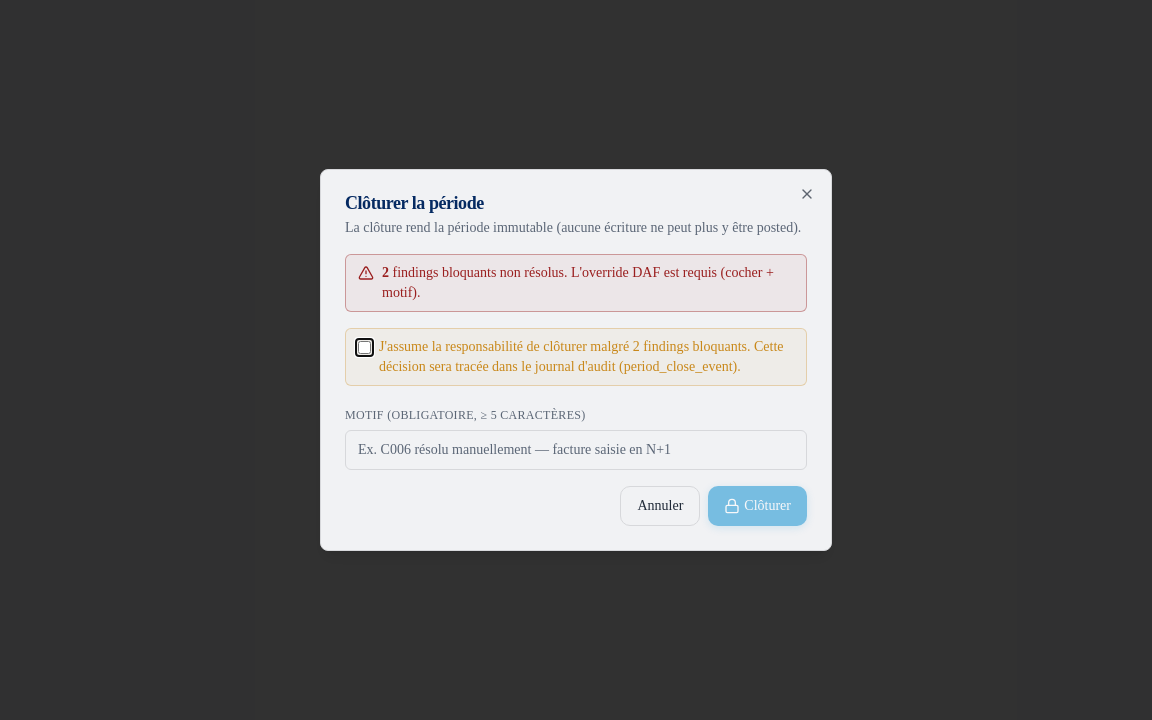
ClosePeriodDialog › avec findings bloquants + canOverride : checkbox + reason ≥ 5 requis
Expected: the element with test id "close-blocking-banner" is shown, x1=345 y1=254 x2=807 y2=312
Expected: the button with test id "close-confirm" is disabled, x1=708 y1=486 x2=807 y2=526
Note: Coche + ajout d'un motif court → toujours désactivé
Click the checkbox with test id "acknowledge-checkbox" at (364, 348), box x1=358 y1=341 x2=371 y2=354
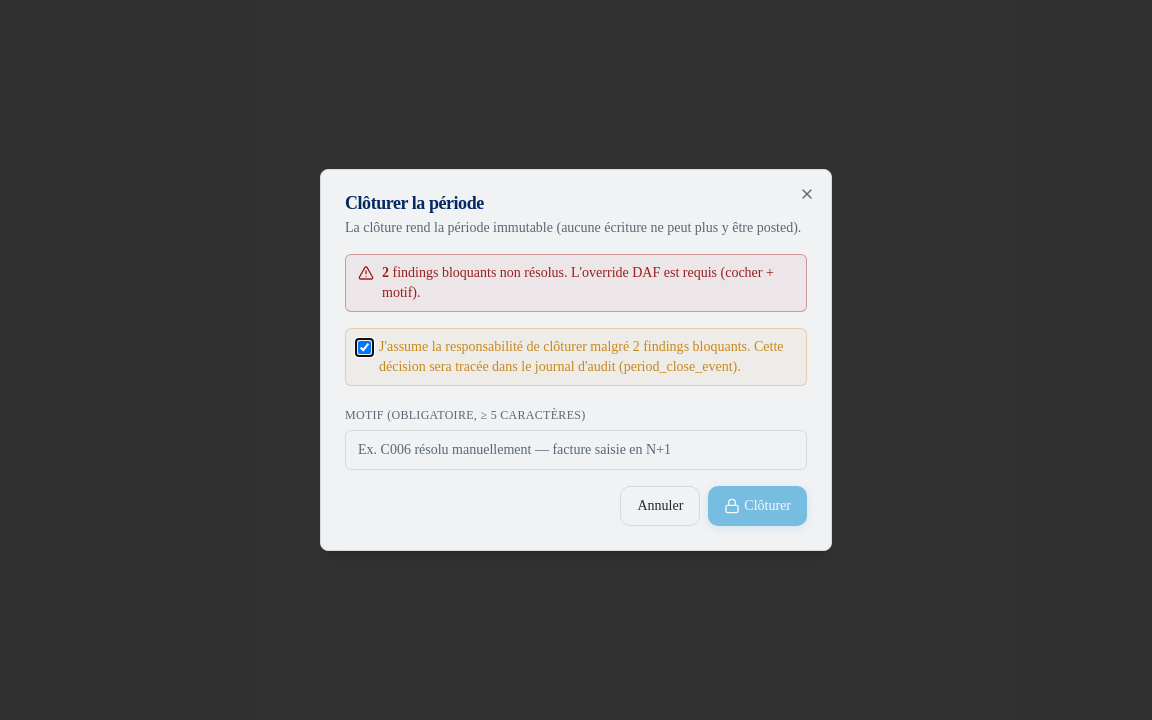
Type "abc" into the field with test id "close-reason" at (576, 450), box x1=345 y1=430 x2=807 y2=470
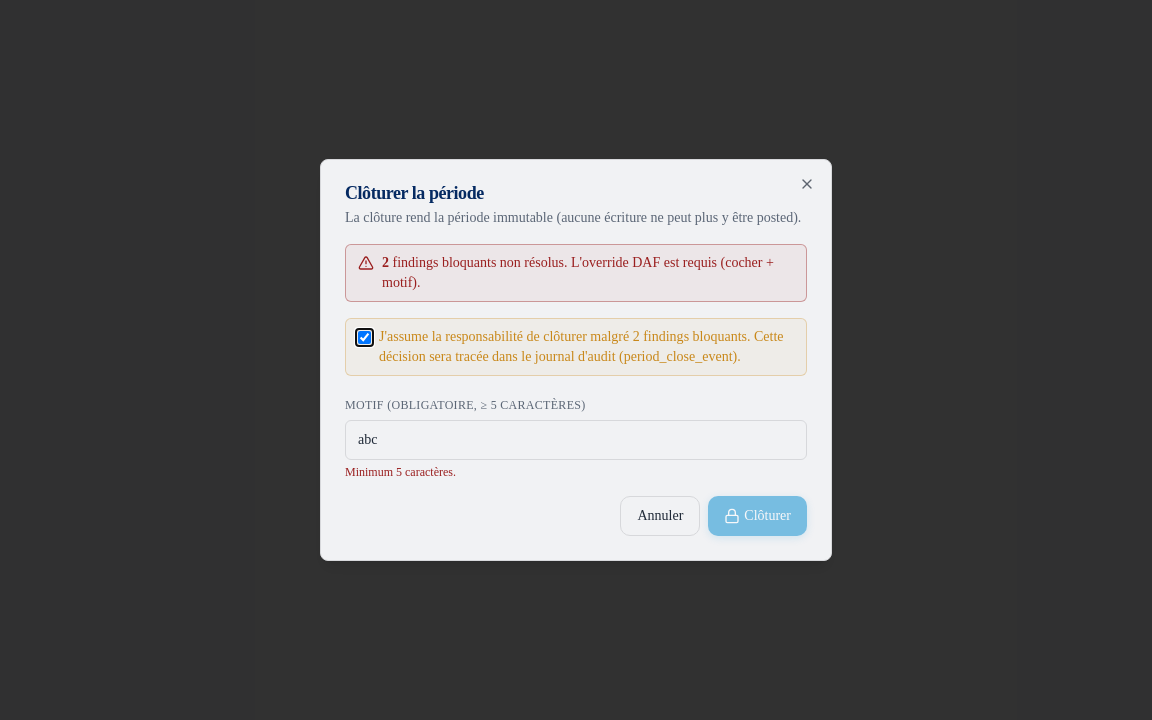
Expected: the button with test id "close-confirm" is disabled, x1=708 y1=496 x2=807 y2=536
Note: Motif valide → activé
Replace the text in the field with test id "close-reason" with "C006 résolu manuellement" at (576, 440), box x1=345 y1=420 x2=807 y2=460
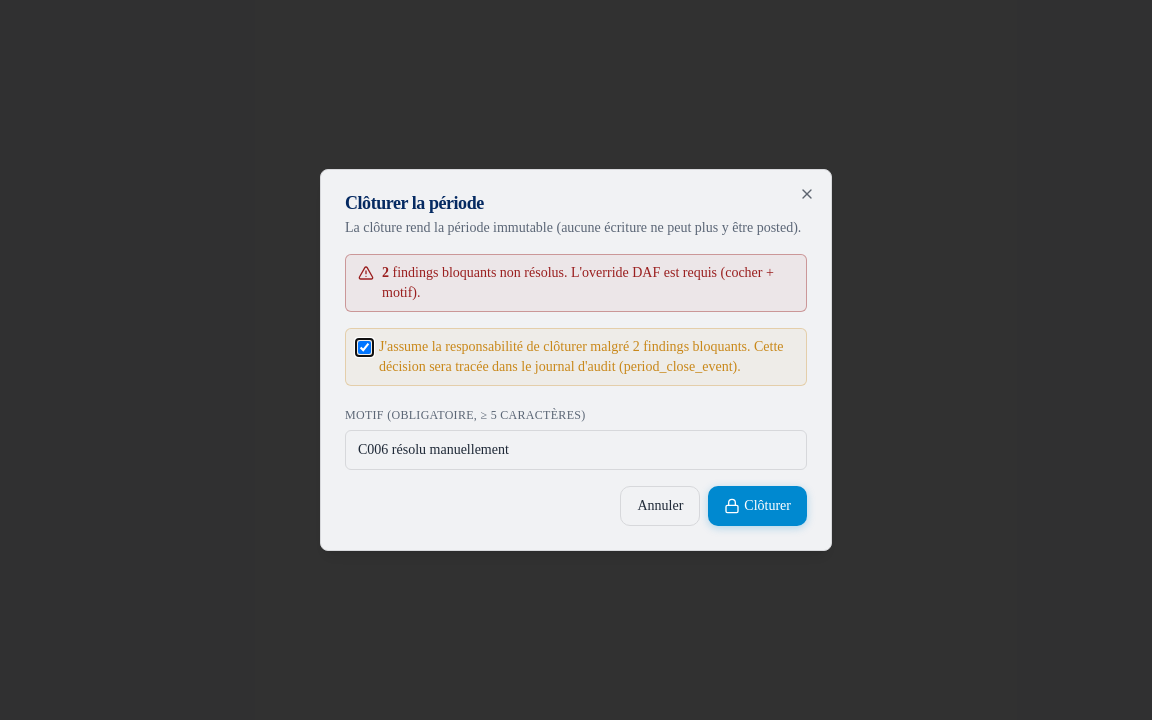
Result: the button with test id "close-confirm" is enabled at x1=708 y1=486 x2=807 y2=526
